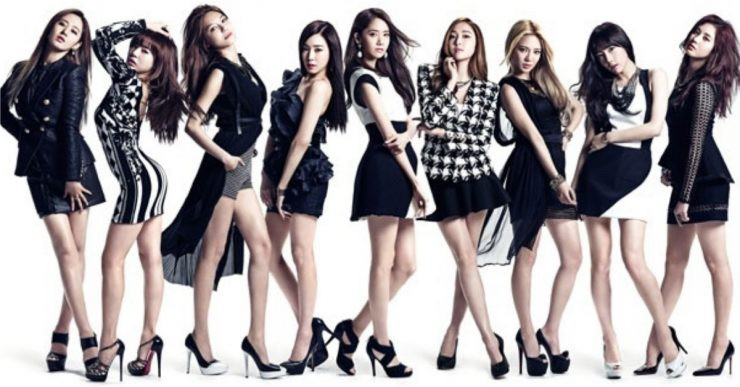people: (179, 8, 271, 387), (575, 15, 668, 381), (417, 15, 506, 385), (14, 8, 101, 381), (97, 28, 180, 381), (353, 8, 429, 369), (501, 12, 571, 381), (279, 20, 345, 385), (676, 14, 739, 387)
